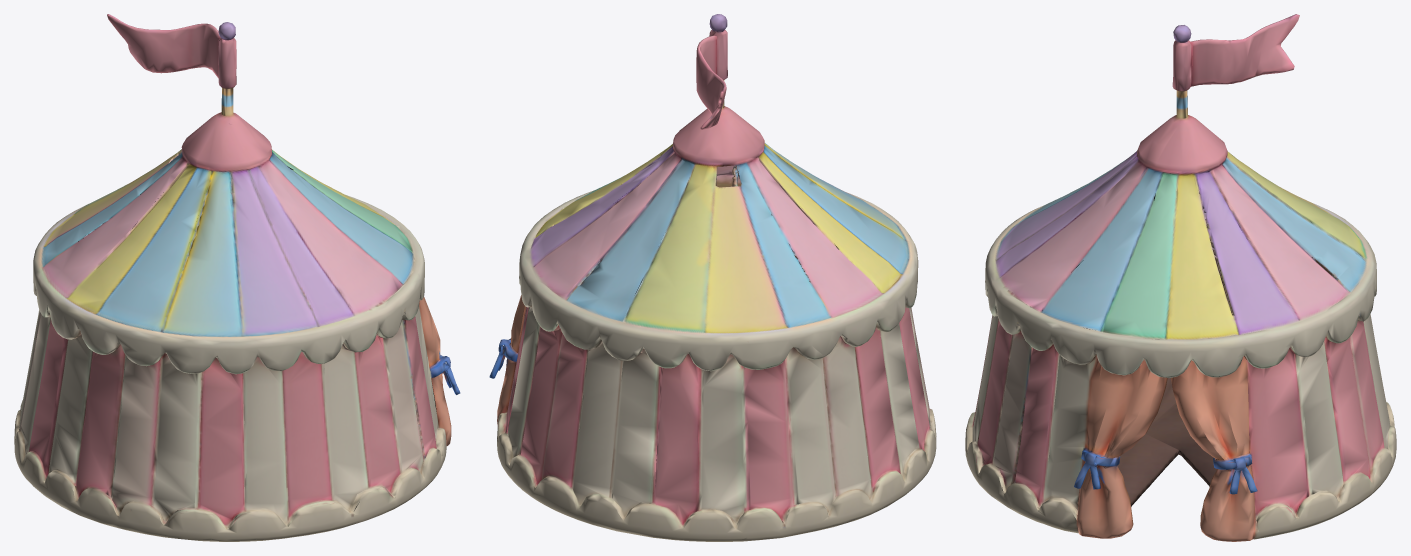
The picture shows the model from 3 angles, left to right: view 1: azimuth 30°, elevation 25°; view 2: azimuth 150°, elevation 25°; view 3: azimuth 270°, elevation 25°; orthographic projection.
Visible parts, largest first — view 1: repaired; view 2: repaired; view 3: repaired.
Part boxes in pixels (left/top/right/bottom): repaired: left=14, top=14, right=460, bottom=541; repaired: left=489, top=14, right=936, bottom=541; repaired: left=965, top=14, right=1396, bottom=541.
Bounding box in the file's own units: 0.9207 × 0.9999 × 0.9114.
Materials: 1 (1 with a texture image).
